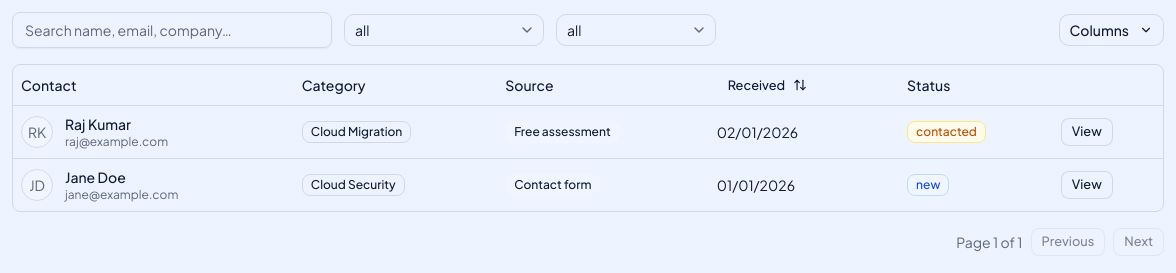
it: EnquiriesDataTable › filters rows via the global search input
Type "raj" into the field with placeholder "Search name, email, company…" at (172, 30), box x1=12 y1=12 x2=332 y2=48
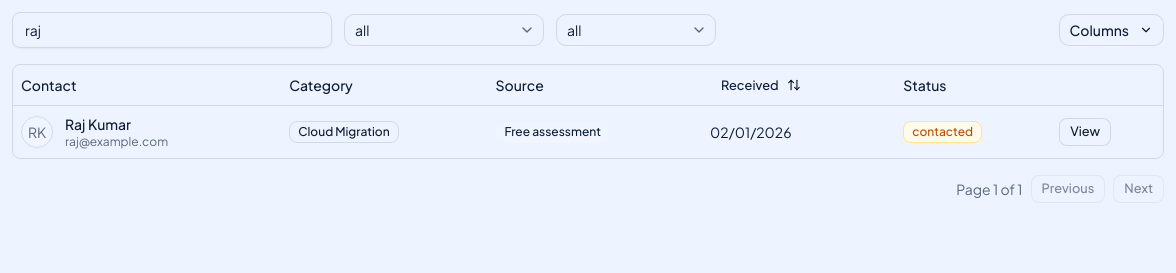
expect the text "Raj Kumar" is shown: met, box x1=65 y1=114 x2=131 y2=132
expect the text "Jane Doe" is gone: met
